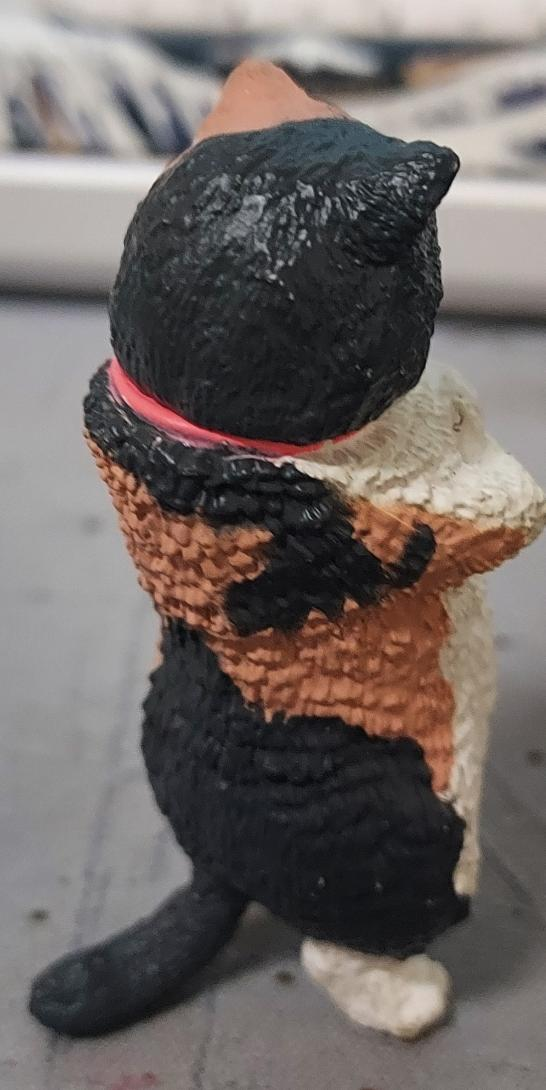cat: (1, 0, 546, 1090)
